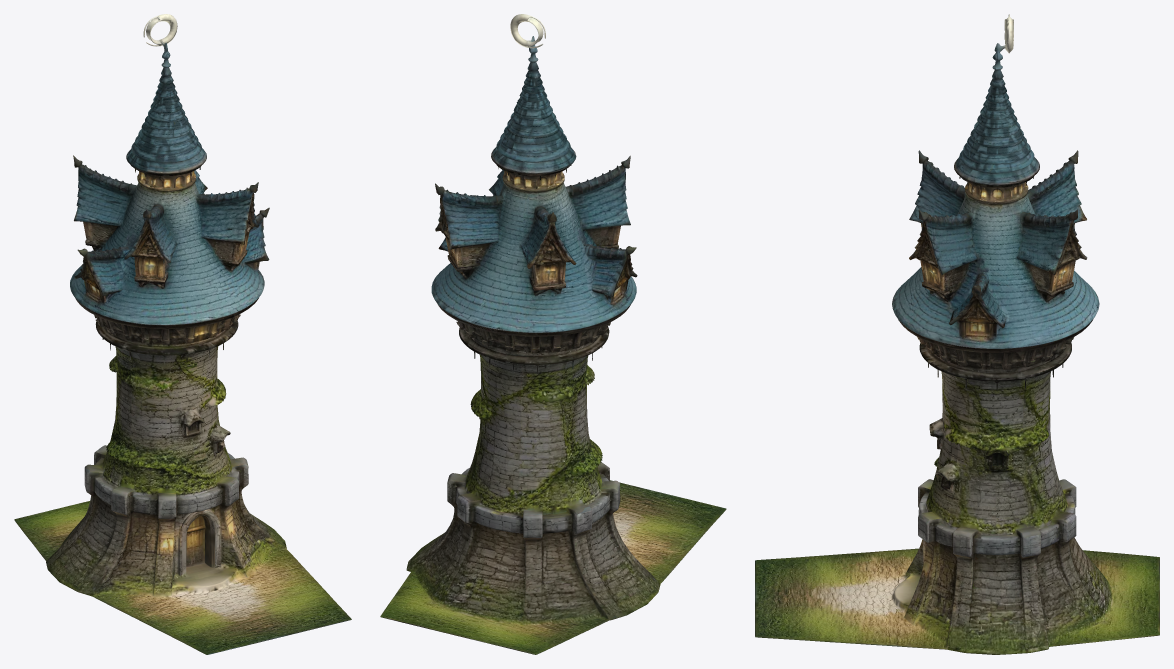
File: thap-phu-thuy.glb
The picture shows the model from 3 angles, left to right: view 1: azimuth 30°, elevation 25°; view 2: azimuth 150°, elevation 25°; view 3: azimuth 270°, elevation 25°; orthographic projection. The views are drawn at different scales.
Visible parts, largest first — view 1: node_0; view 2: node_0; view 3: node_0.
Part boxes in pixels (x1,y1,x2,y2): node_0: (14, 14, 351, 654); node_0: (380, 14, 726, 654); node_0: (755, 14, 1159, 654).
Bounding box in the file's own units: 0.4121 × 0.9847 × 0.6213.
1 material, 1 textured.
